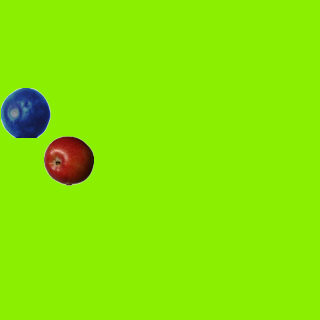Apple Braeburn: (43, 135, 93, 185)
Huckleberry: (0, 87, 50, 137)
